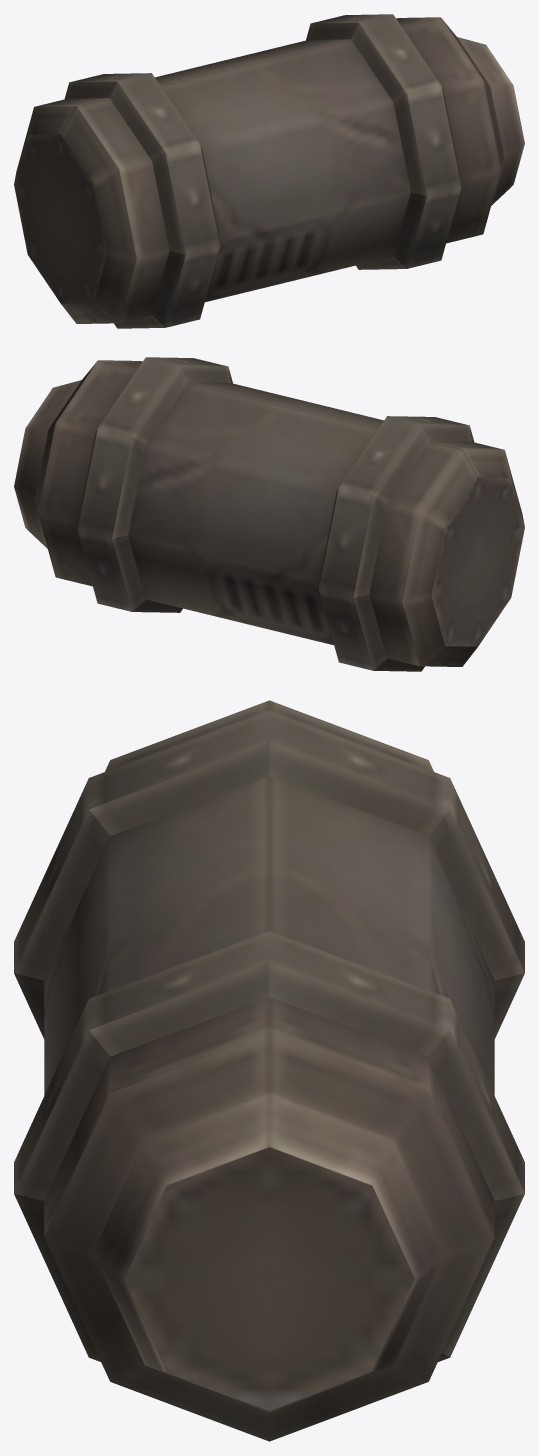
The model's file is frame_piece.FBX.
The picture shows the model from 3 angles, top to bottom: view 1: azimuth 30°, elevation 25°; view 2: azimuth 150°, elevation 25°; view 3: azimuth 270°, elevation 25°; orthographic projection. The views are drawn at different scales.
Visible parts, largest first — view 1: Object010; view 2: Object010; view 3: Object010.
Part boxes in pixels (box(x1,y1,x2,y2)): Object010: box(14, 14, 524, 328); Object010: box(14, 357, 524, 671); Object010: box(14, 700, 524, 1441).
Bounding box in the file's own units: 22.43 × 12.46 × 12.46.
